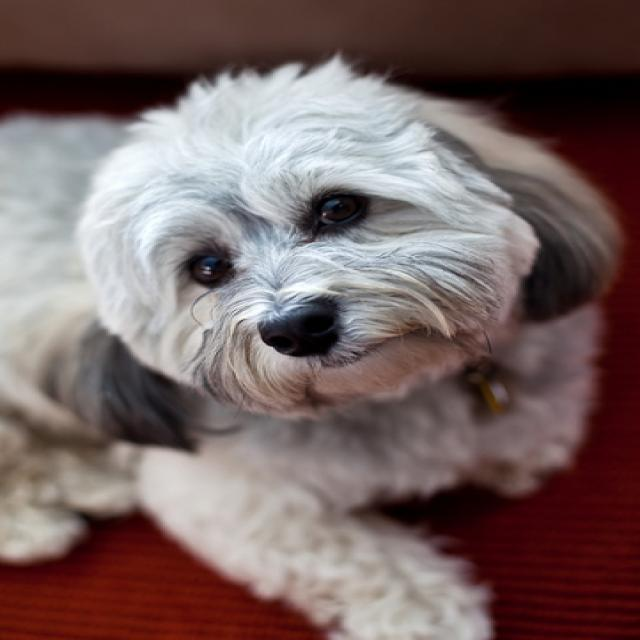dog-havanese: (2, 58, 636, 637)
